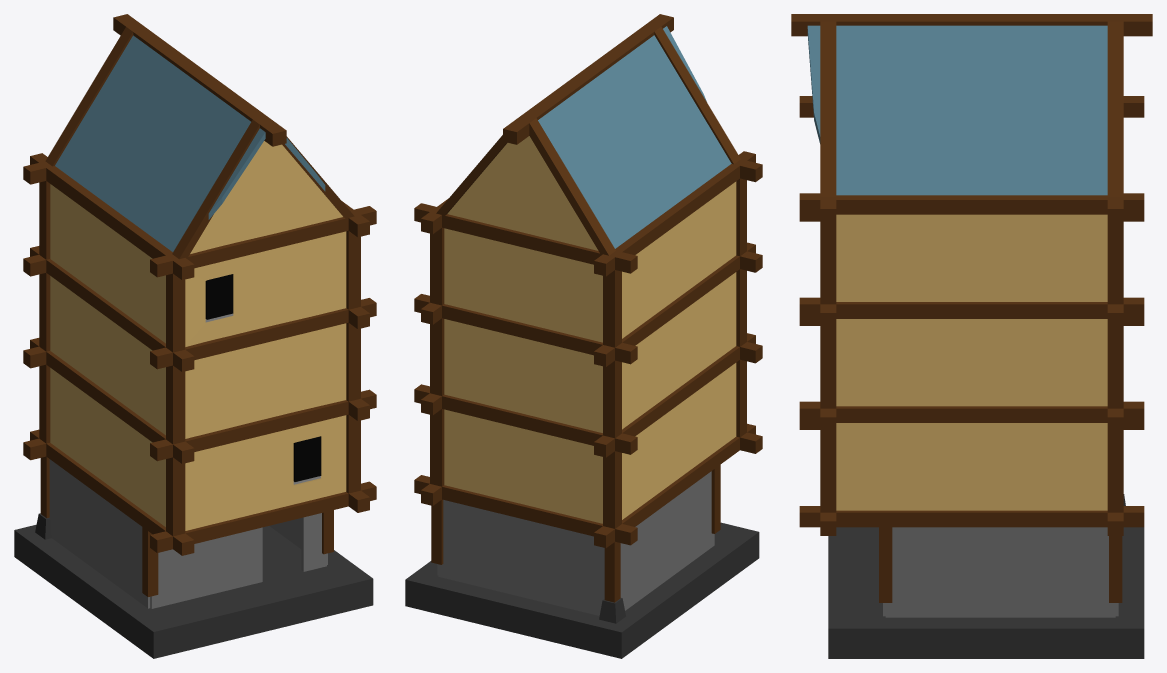
The model's file is City_Core01_02_LOD2.fbx.
3 renders of one model, left to right at view 1: azimuth 30°, elevation 25°; view 2: azimuth 150°, elevation 25°; view 3: azimuth 270°, elevation 25°, orthographic. The views are drawn at different scales.
Visible parts, largest first — view 1: MBS_City_Core01_02_LOD2; view 2: MBS_City_Core01_02_LOD2; view 3: MBS_City_Core01_02_LOD2.
Part boxes in pixels (box(x1,y1,x2,y2)): MBS_City_Core01_02_LOD2: box(14, 14, 376, 658); MBS_City_Core01_02_LOD2: box(405, 14, 762, 658); MBS_City_Core01_02_LOD2: box(791, 14, 1152, 658).
Size of the model in its own units: 1000 by 2228 by 1256.
